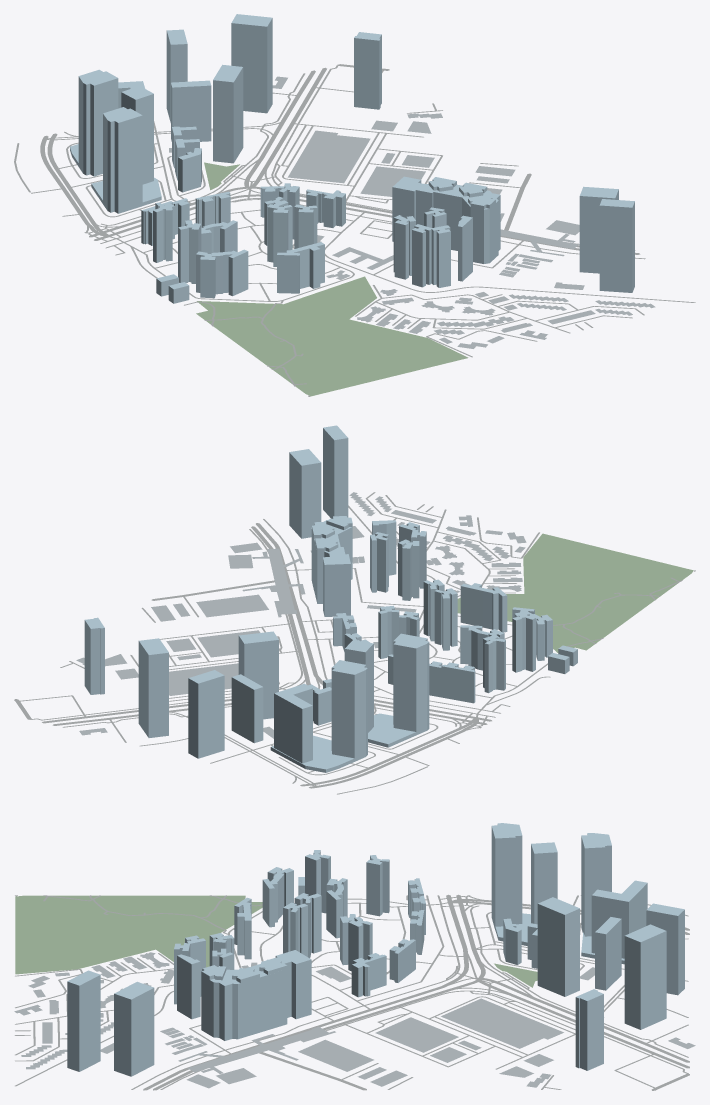
File: -12_-3-known-coarse.glb
3 views of the same model, one above another, from view 1: azimuth 30°, elevation 25°; view 2: azimuth 150°, elevation 25°; view 3: azimuth 270°, elevation 25° (orthographic). The views are drawn at different scales.
Size of the model in its own units: 698 by 150 by 1008.
